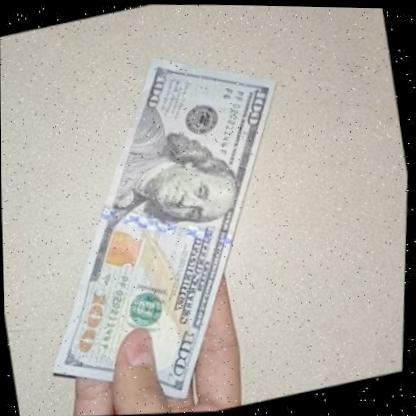one_hundred-front: (0, 21, 337, 416)
